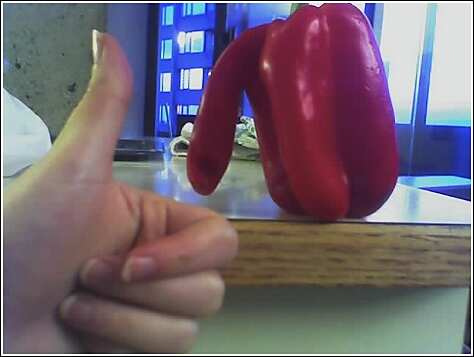capsicum: (185, 3, 400, 222)
